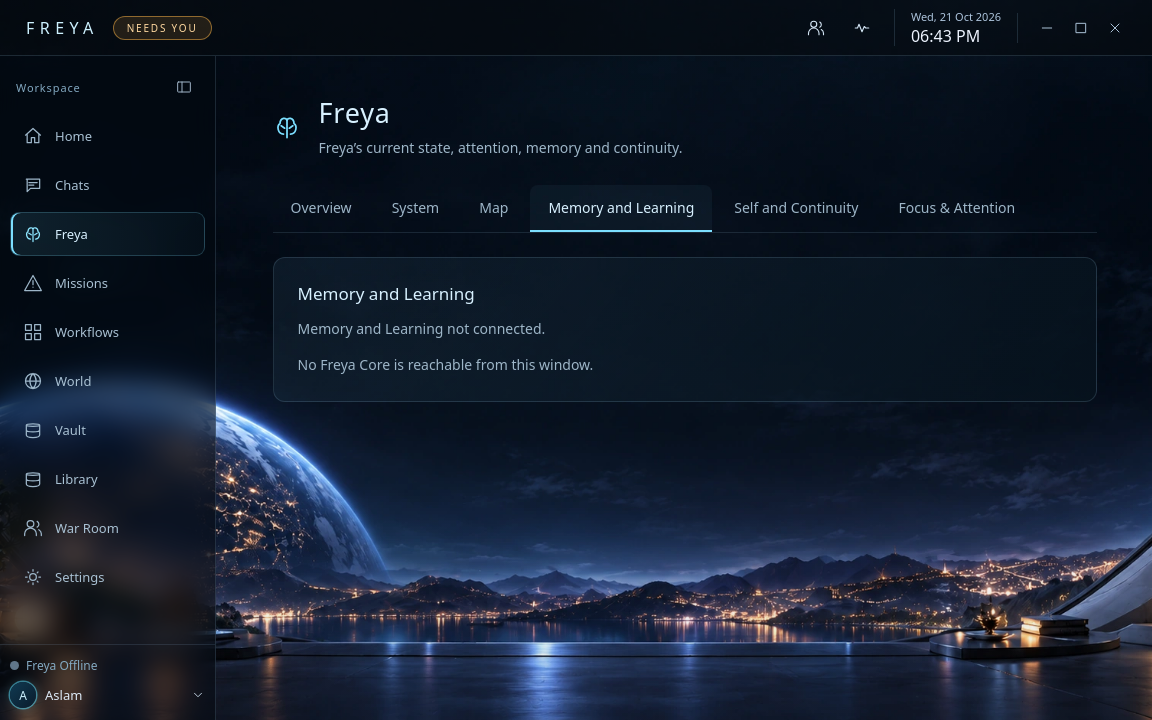
Scenario: the shipping primary destinations › returns to the last Mind page when switching primary destinations
The width and height of the screenshot is (1152, 720).
Click the button "Chats" at (108, 185), box [10,163,205,207]
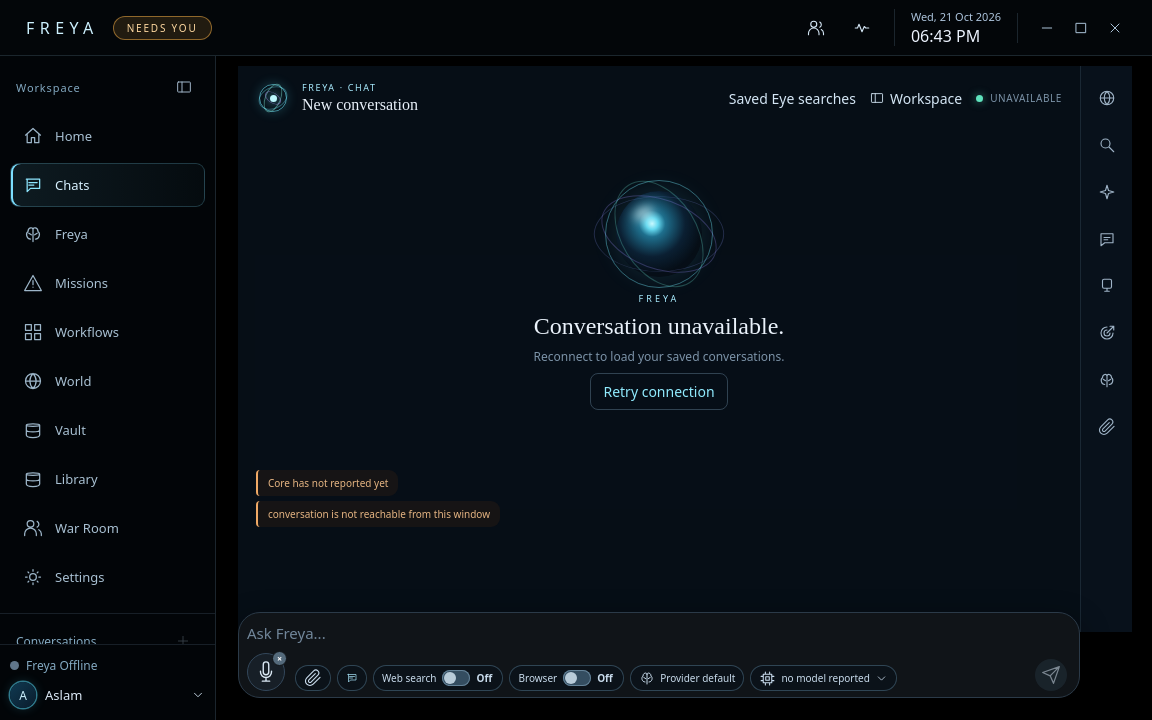
Click the button "Freya" at (108, 234), box [10,212,205,256]
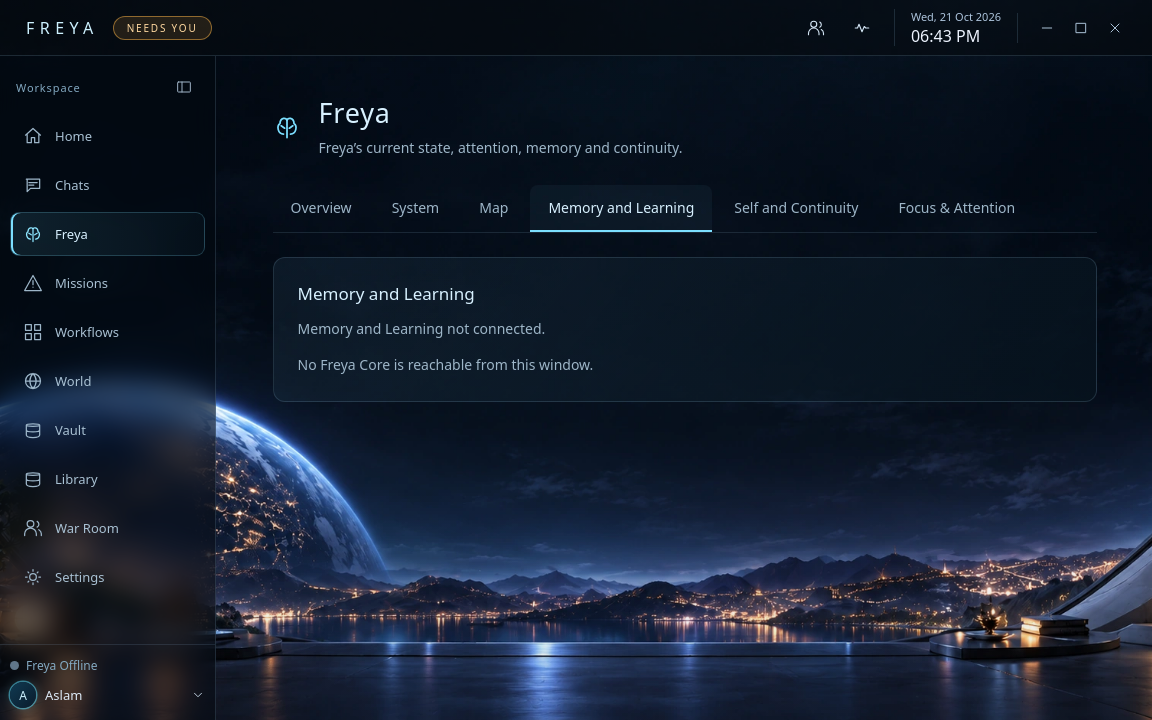
Result: the panel "Memory and Learning" is shown at [272,257,1097,402]
